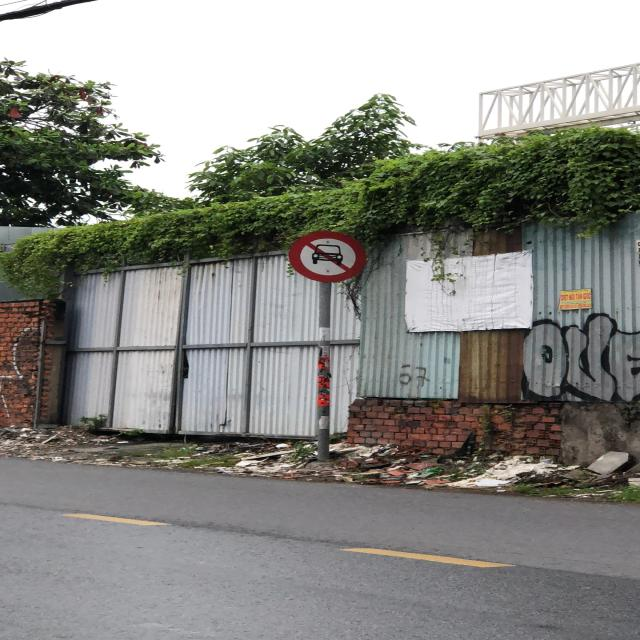Bien bao cam xe oto: (287, 228, 372, 285)
